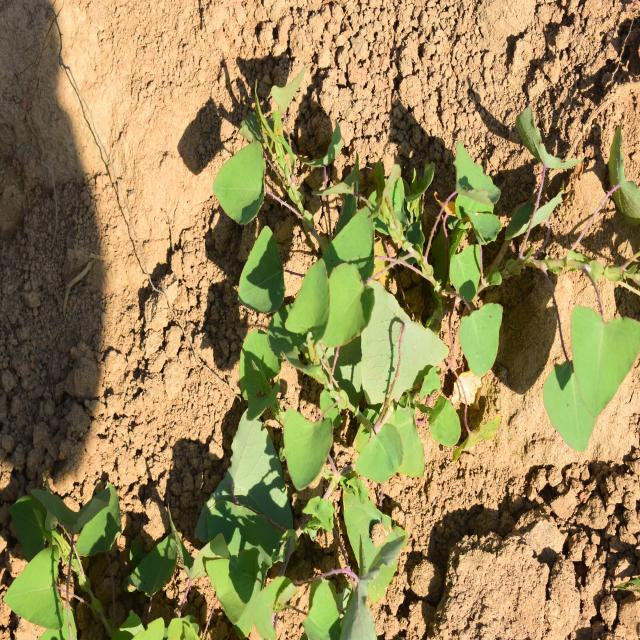Asiatic_Smartweed: (284, 262, 463, 483), (212, 60, 324, 325), (530, 286, 640, 447)
